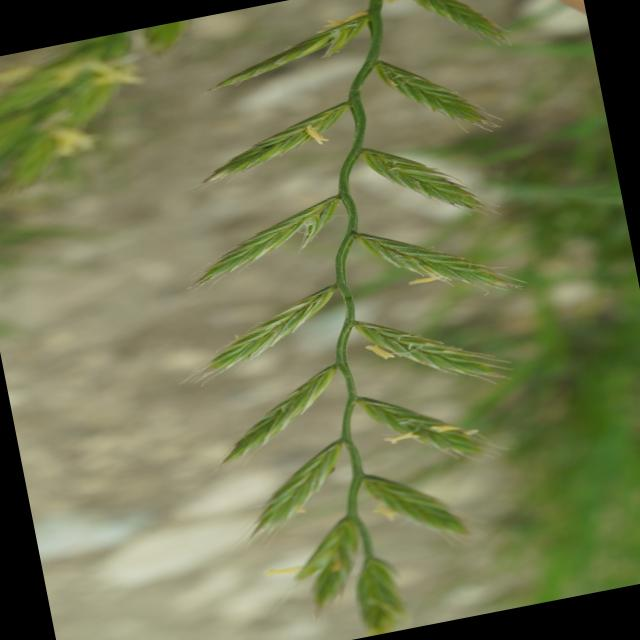Lolium: (117, 0, 617, 640)
